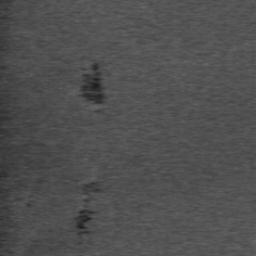Secondary rust skin: (72, 184, 107, 241), (78, 60, 105, 105)
